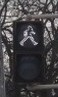walk: (11, 20, 46, 52)
